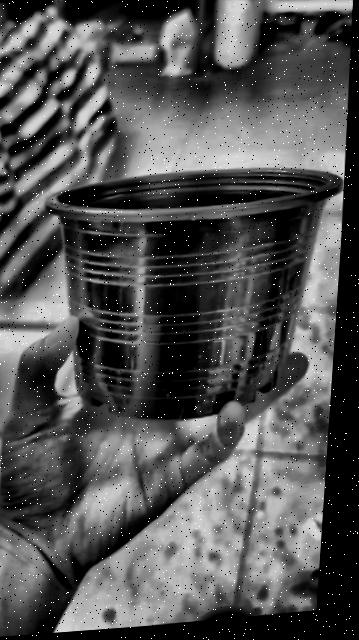pot: (47, 170, 339, 420)
